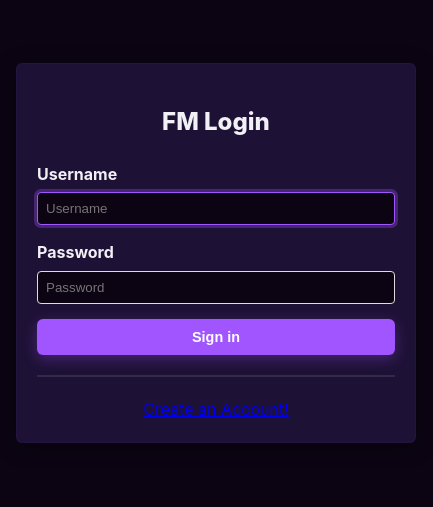
Test: Login Component › displays error message on failure
This screenshot has width=433, height=507.
Type "user" into the field with placeholder "Username".
click(216, 209); type("user")  # box [37,192,395,225]
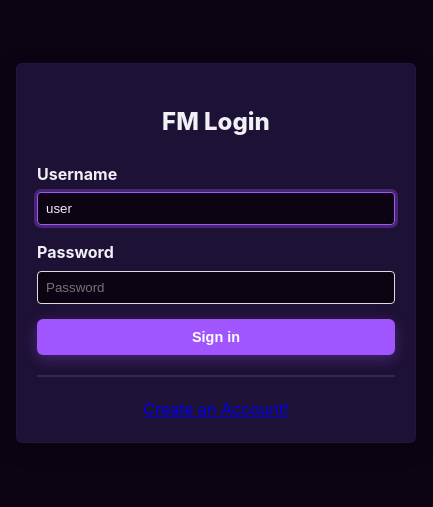
Type "password" into the password field with placeholder "Password".
click(216, 287); type("password")  # box [37,271,395,304]
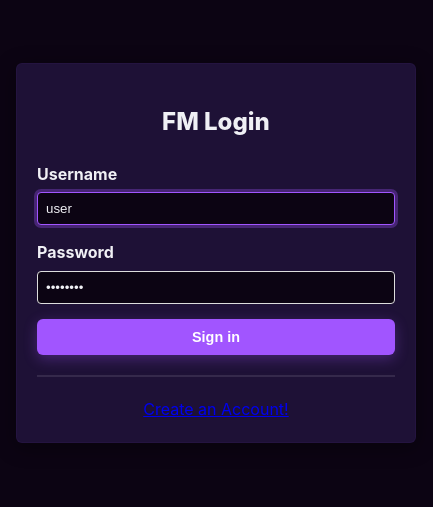
Click the button "Sign in".
click(216, 337)  # box [37,319,395,355]
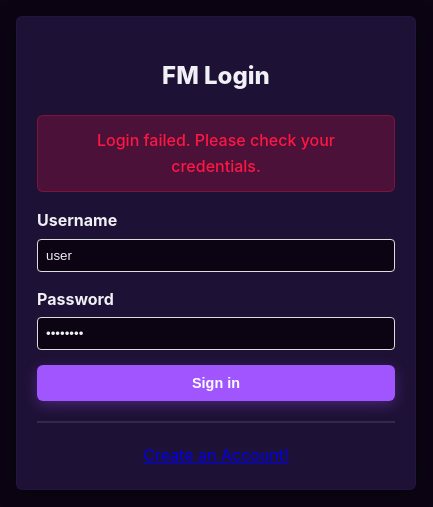
Expected: the text "Login failed. Please check your credentials." is shown, [37,115,395,192]
